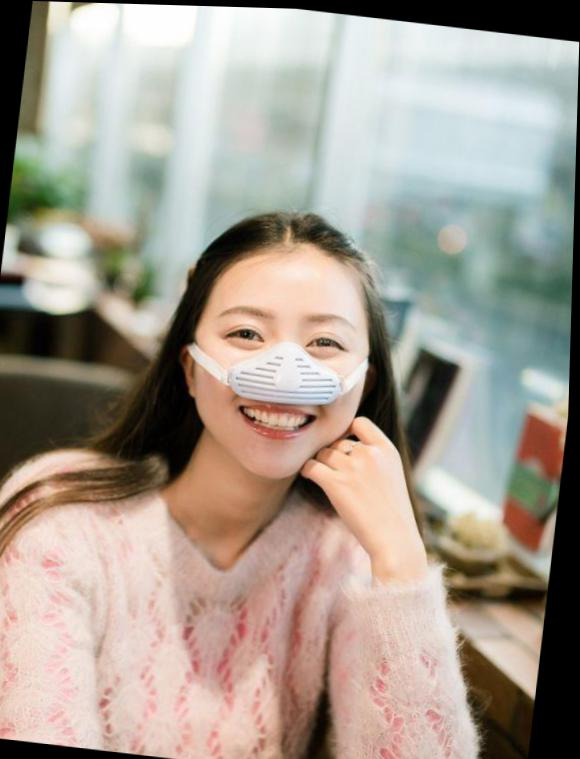WRONG: (184, 281, 380, 491)
